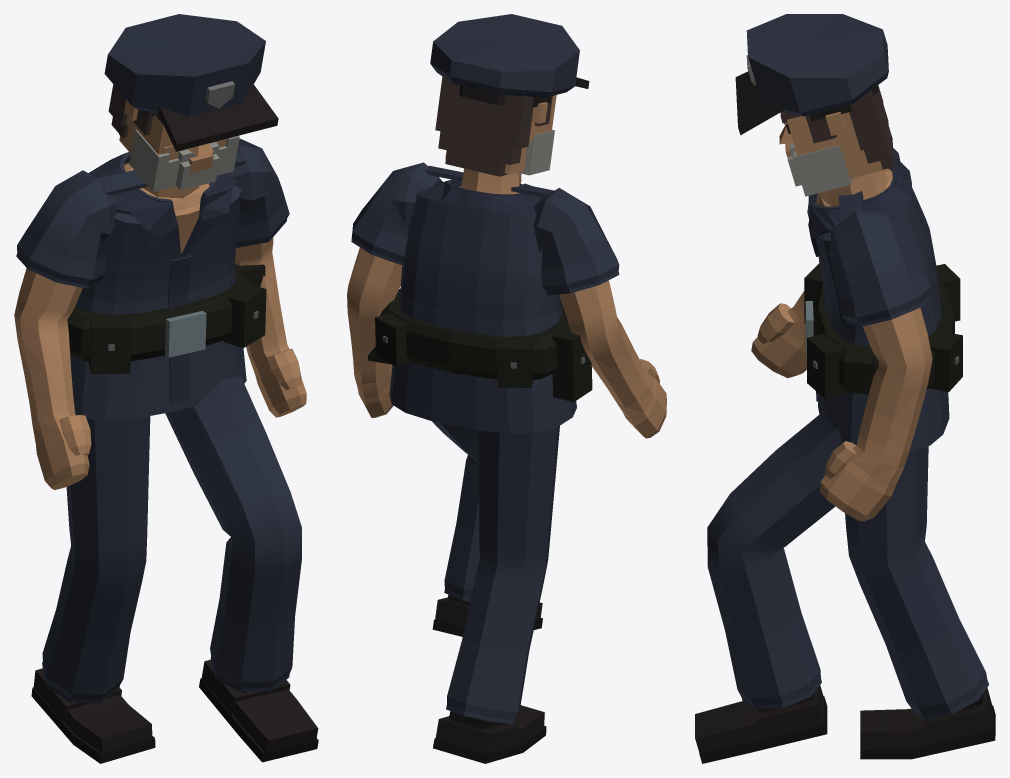
File: police-officer-1cc379__walk7.glb
3 renders of one model, left to right at view 1: azimuth 30°, elevation 25°; view 2: azimuth 150°, elevation 25°; view 3: azimuth 270°, elevation 25°, orthographic. The views are drawn at different scales.
Parts seen in each view (by area): view 1: police-officer-1cc379__walk7; view 2: police-officer-1cc379__walk7; view 3: police-officer-1cc379__walk7.
Boxes of the visible parts, x1,y1,x2,y2 form: police-officer-1cc379__walk7: (14, 14, 318, 763); police-officer-1cc379__walk7: (347, 14, 666, 763); police-officer-1cc379__walk7: (695, 14, 995, 763).
Bounding box in the file's own units: 0.7162 × 1.73 × 0.6517.
